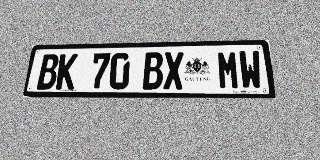0: (109, 53, 130, 89)
7: (89, 53, 111, 90)
B: (36, 54, 60, 90), (142, 52, 163, 89)
K: (55, 54, 78, 90)
M: (217, 51, 240, 89)
W: (238, 50, 263, 89)
X: (163, 52, 184, 89)
